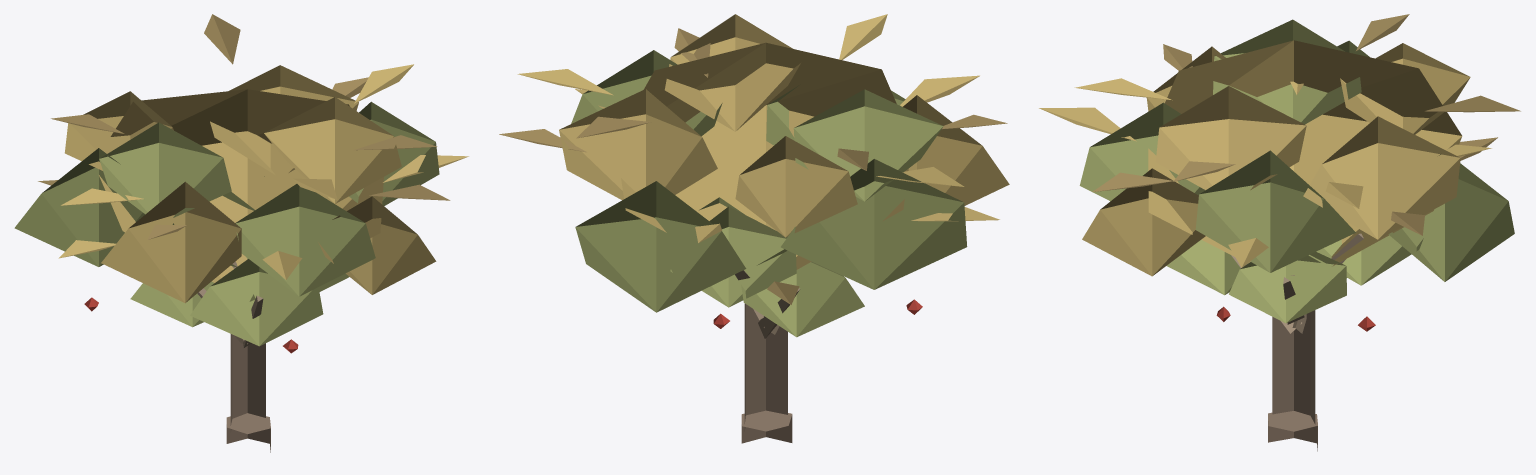
File: shu.fenghuang@fruiting__autumn.glb
3 renders of one model, left to right at view 1: azimuth 30°, elevation 25°; view 2: azimuth 150°, elevation 25°; view 3: azimuth 270°, elevation 25°, orthographic. The views are drawn at different scales.
Parts seen in each view (by area): view 1: shu.fenghuang@fruiting__autumn; view 2: shu.fenghuang@fruiting__autumn; view 3: shu.fenghuang@fruiting__autumn.
Part boxes in pixels (bbox=[...]): shu.fenghuang@fruiting__autumn: bbox=[14, 14, 468, 452]; shu.fenghuang@fruiting__autumn: bbox=[499, 14, 1009, 443]; shu.fenghuang@fruiting__autumn: bbox=[1039, 14, 1520, 451].
Bounding box in the file's own units: 14.24 × 12.07 × 13.43.
